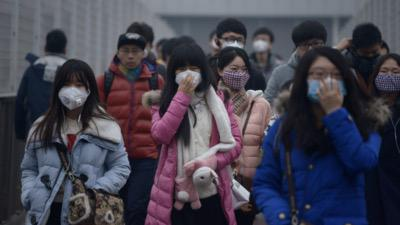with_mask: (306, 64, 349, 106), (56, 77, 91, 112), (172, 64, 205, 92), (220, 64, 249, 89), (374, 66, 399, 94), (356, 46, 381, 73), (218, 34, 246, 52), (252, 37, 271, 55)
without_mask: (117, 45, 144, 69), (296, 38, 324, 61)
